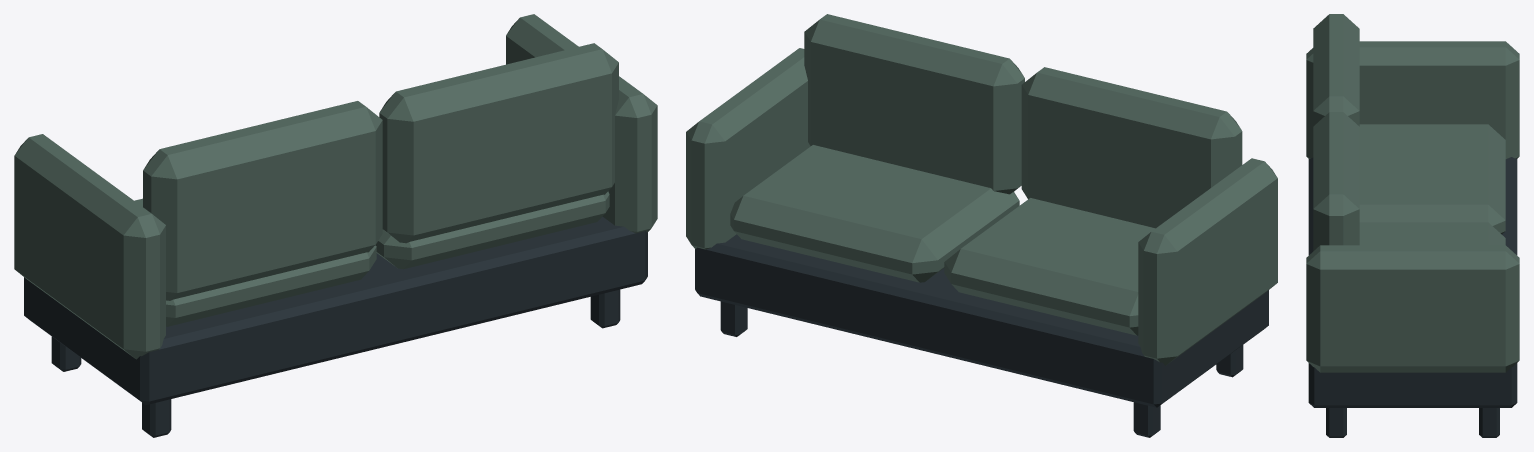
The model's file is sofa-Luu9qFk7.glb.
3 views of the same model, side by side, from view 1: azimuth 30°, elevation 25°; view 2: azimuth 150°, elevation 25°; view 3: azimuth 270°, elevation 25° (orthographic). The views are drawn at different scales.
Parts seen in each view (by area): view 1: tapered foot; view 2: tapered foot; view 3: tapered foot.
Boxes of the visible parts, left/top/right/bottom form: tapered foot: left=14, top=14, right=657, bottom=437; tapered foot: left=686, top=14, right=1277, bottom=437; tapered foot: left=1306, top=14, right=1519, bottom=437.
Size of the model in its own units: 2.26 by 1.13 by 0.92.
